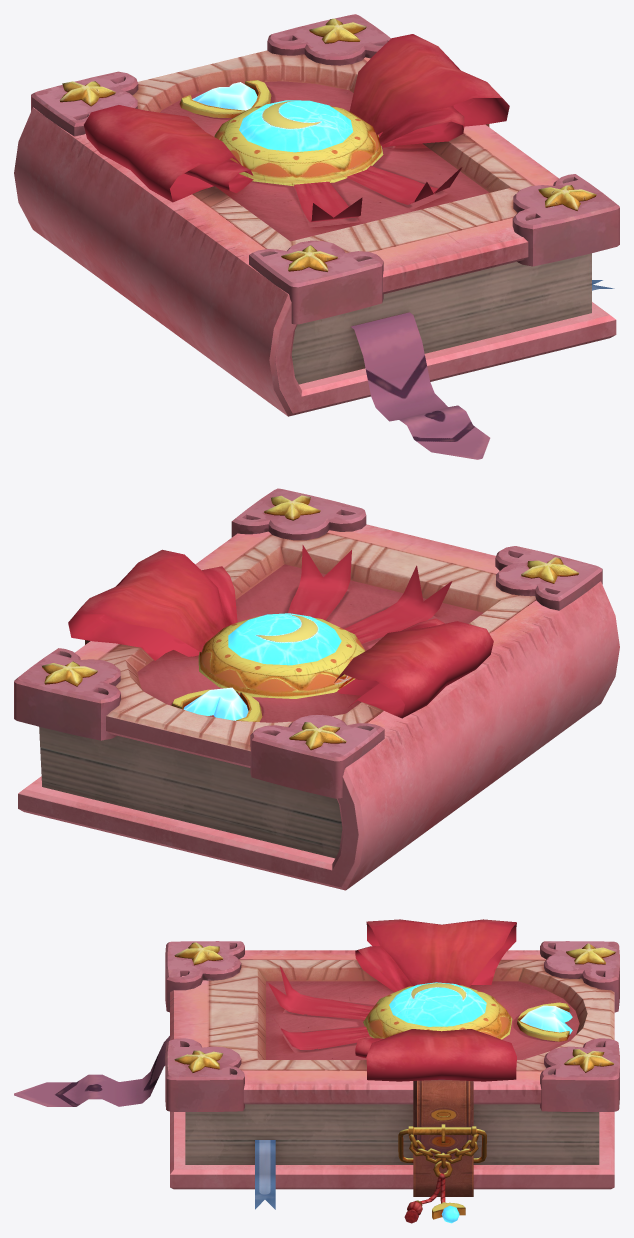
Rendered from sailor_magical_book.glb.
The picture shows the model from 3 angles, top to bottom: view 1: azimuth 30°, elevation 25°; view 2: azimuth 150°, elevation 25°; view 3: azimuth 270°, elevation 25°; orthographic projection. The views are drawn at different scales.
Visible parts, largest first — view 1: polySurface243, polySurface257, polySurface229, polySurface256, polySurface271, polySurface218, polySurface221, polySurface258, polySurface216, polySurface244, polySurface255, polySurface274 (+10 smaller); view 2: polySurface243, polySurface257, polySurface256, polySurface271, polySurface216, polySurface258, polySurface221, polySurface218, polySurface266, polySurface274, polySurface244, polySurface263 (+6 smaller); view 3: polySurface243, polySurface256, polySurface271, polySurface257, polySurface258, polySurface221, polySurface226, polySurface229, polySurface218, polySurface216, polySurface227, polySurface274 (+12 smaller).
Boxes of the visible parts, bbox=[...] form: polySurface243: bbox=[14, 50, 616, 416]; polySurface257: bbox=[214, 100, 383, 186]; polySurface229: bbox=[351, 312, 490, 459]; polySurface256: bbox=[349, 34, 509, 134]; polySurface271: bbox=[84, 105, 240, 202]; polySurface218: bbox=[249, 240, 383, 324]; polySurface221: bbox=[512, 174, 619, 266]; polySurface258: bbox=[267, 14, 390, 65]; polySurface216: bbox=[31, 71, 138, 136]; polySurface244: bbox=[346, 165, 461, 203]; polySurface255: bbox=[379, 105, 464, 147]; polySurface274: bbox=[294, 181, 362, 221]; polySurface243: bbox=[18, 524, 619, 890]; polySurface257: bbox=[198, 613, 365, 698]; polySurface256: bbox=[68, 549, 226, 660]; polySurface271: bbox=[334, 621, 493, 718]; polySurface216: bbox=[250, 714, 384, 798]; polySurface258: bbox=[14, 648, 120, 740]; polySurface221: bbox=[231, 488, 366, 540]; polySurface218: bbox=[495, 546, 602, 610]; polySurface266: bbox=[69, 614, 199, 660]; polySurface274: bbox=[344, 565, 451, 643]; polySurface244: bbox=[288, 545, 351, 619]; polySurface263: bbox=[183, 687, 248, 720]; polySurface243: bbox=[170, 950, 614, 1189]; polySurface256: bbox=[366, 1029, 516, 1081]; polySurface271: bbox=[366, 919, 516, 987]; polySurface257: bbox=[363, 982, 512, 1039]; polySurface258: bbox=[540, 1038, 619, 1111]; polySurface221: bbox=[165, 1038, 244, 1111]; polySurface226: bbox=[413, 1080, 473, 1155]; polySurface229: bbox=[14, 1036, 169, 1106]; polySurface218: bbox=[165, 941, 244, 1012]; polySurface216: bbox=[540, 941, 619, 1012]; polySurface227: bbox=[413, 1079, 473, 1196]; polySurface274: bbox=[269, 966, 373, 1019].
Size of the model in its own units: 1.99 by 0.7956 by 2.93.
1 material, 1 textured.
